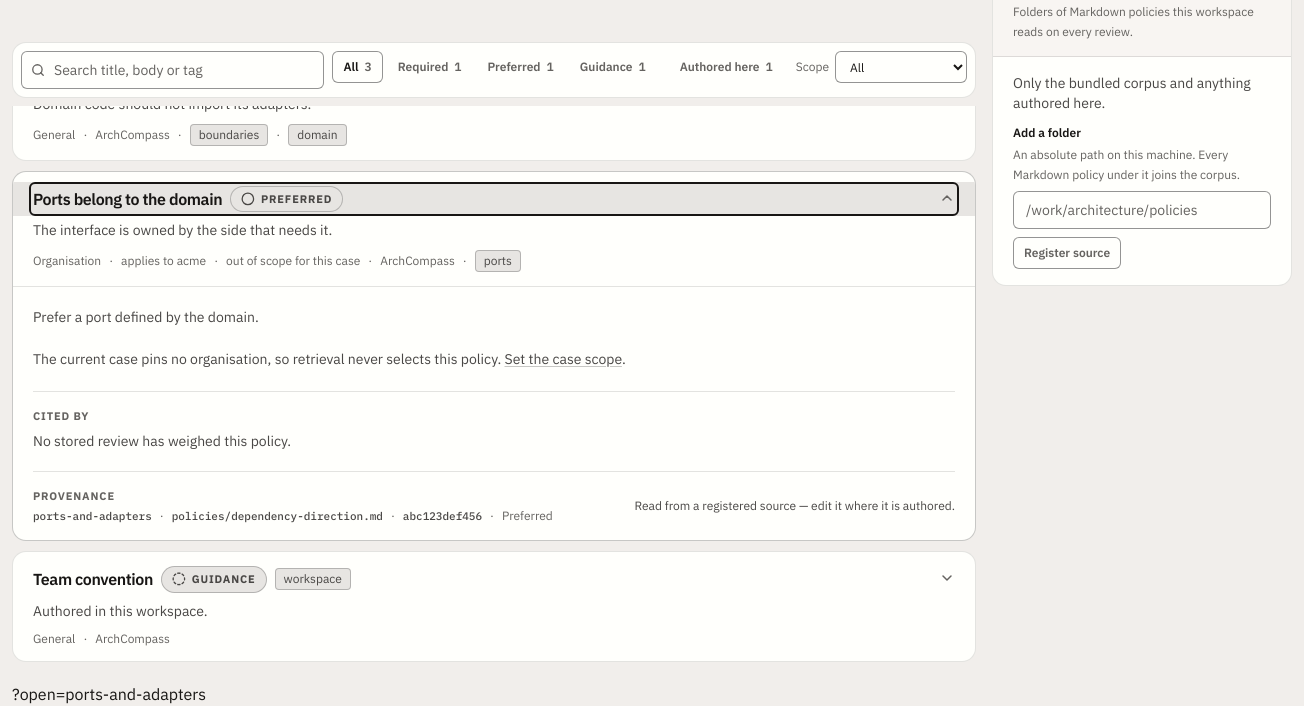
Test: the policy corpus › puts the open policy in the address, in both directions
(page scrolled)
Expected: the text "Prefer a port defined by the domain." is shown, [33, 308, 259, 326]
What coordinates should you click on to do the following:
click the button "Ports belong to the domain Preferred"
I would click on:
 (128, 199)
Its box is [33, 186, 955, 212].
(page scrolled)
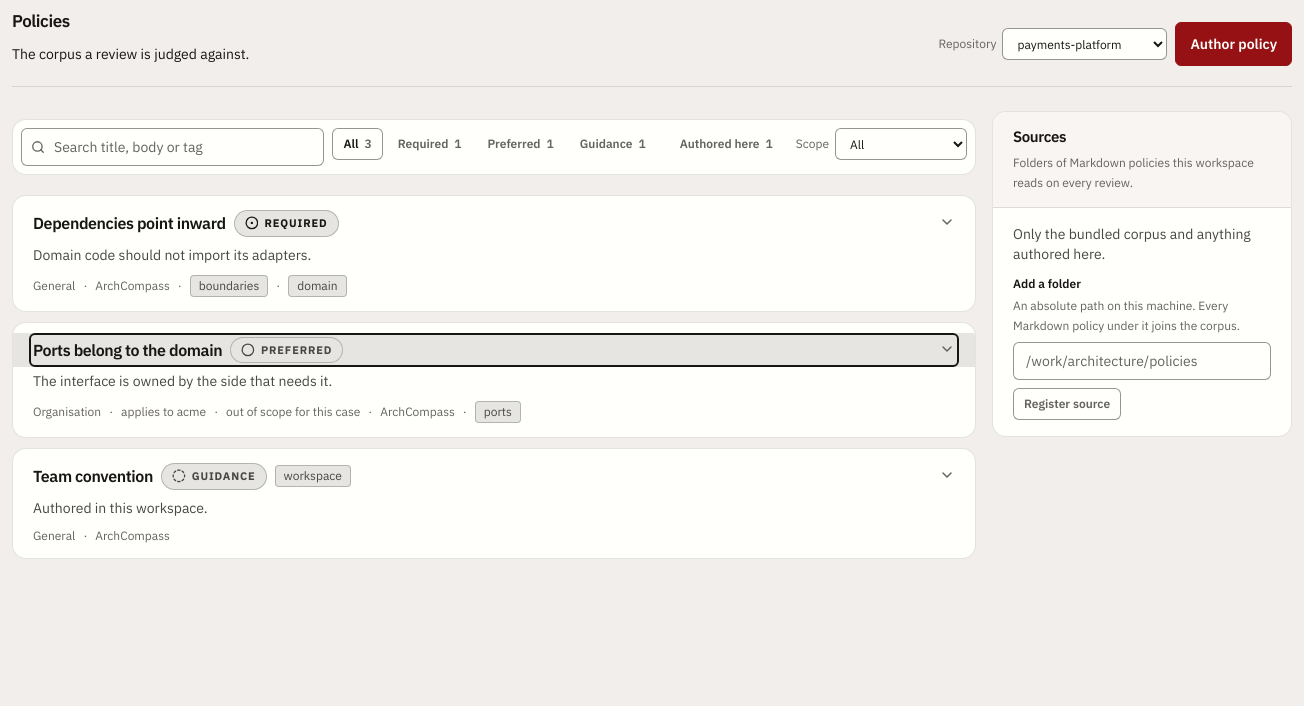
What coordinates should you click on to do the following:
click the button "Team convention Guidance workspace"
I would click on:
 (93, 476)
Its box is [33, 463, 955, 490].
(page scrolled)
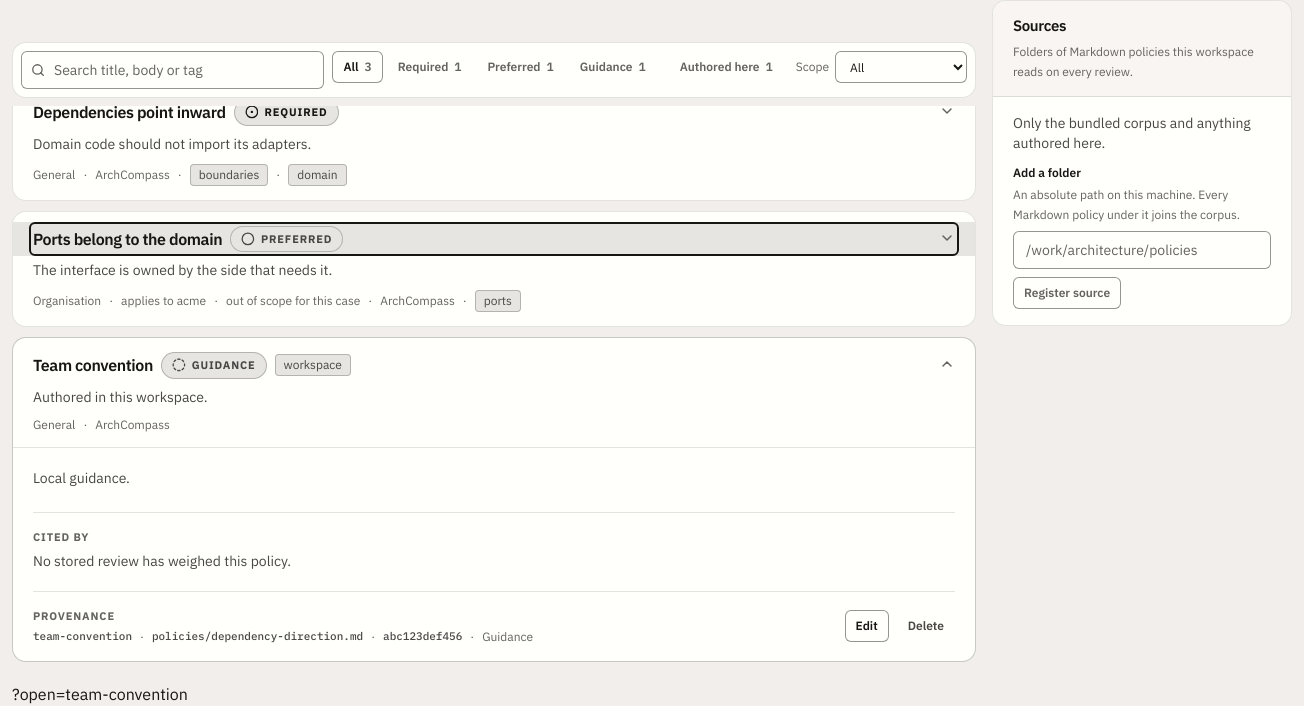
Now the text with test id "address" shows "open=team-convention", box [12, 684, 188, 704]
